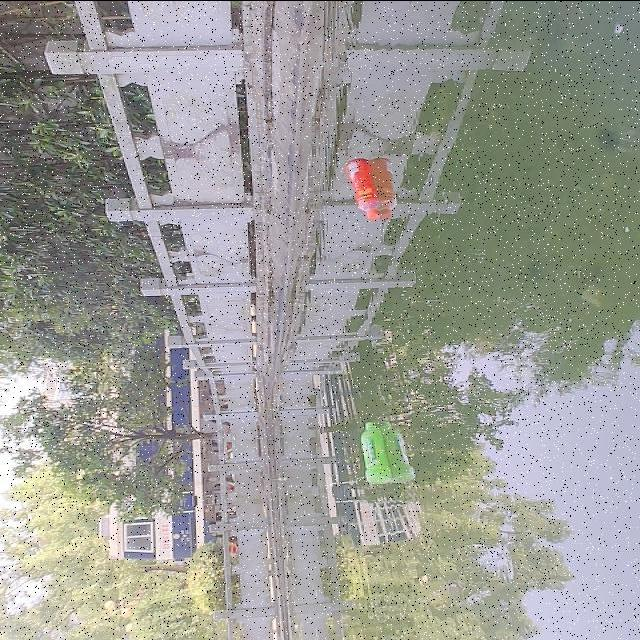Bottle: (341, 148, 391, 222), (359, 412, 404, 492)
